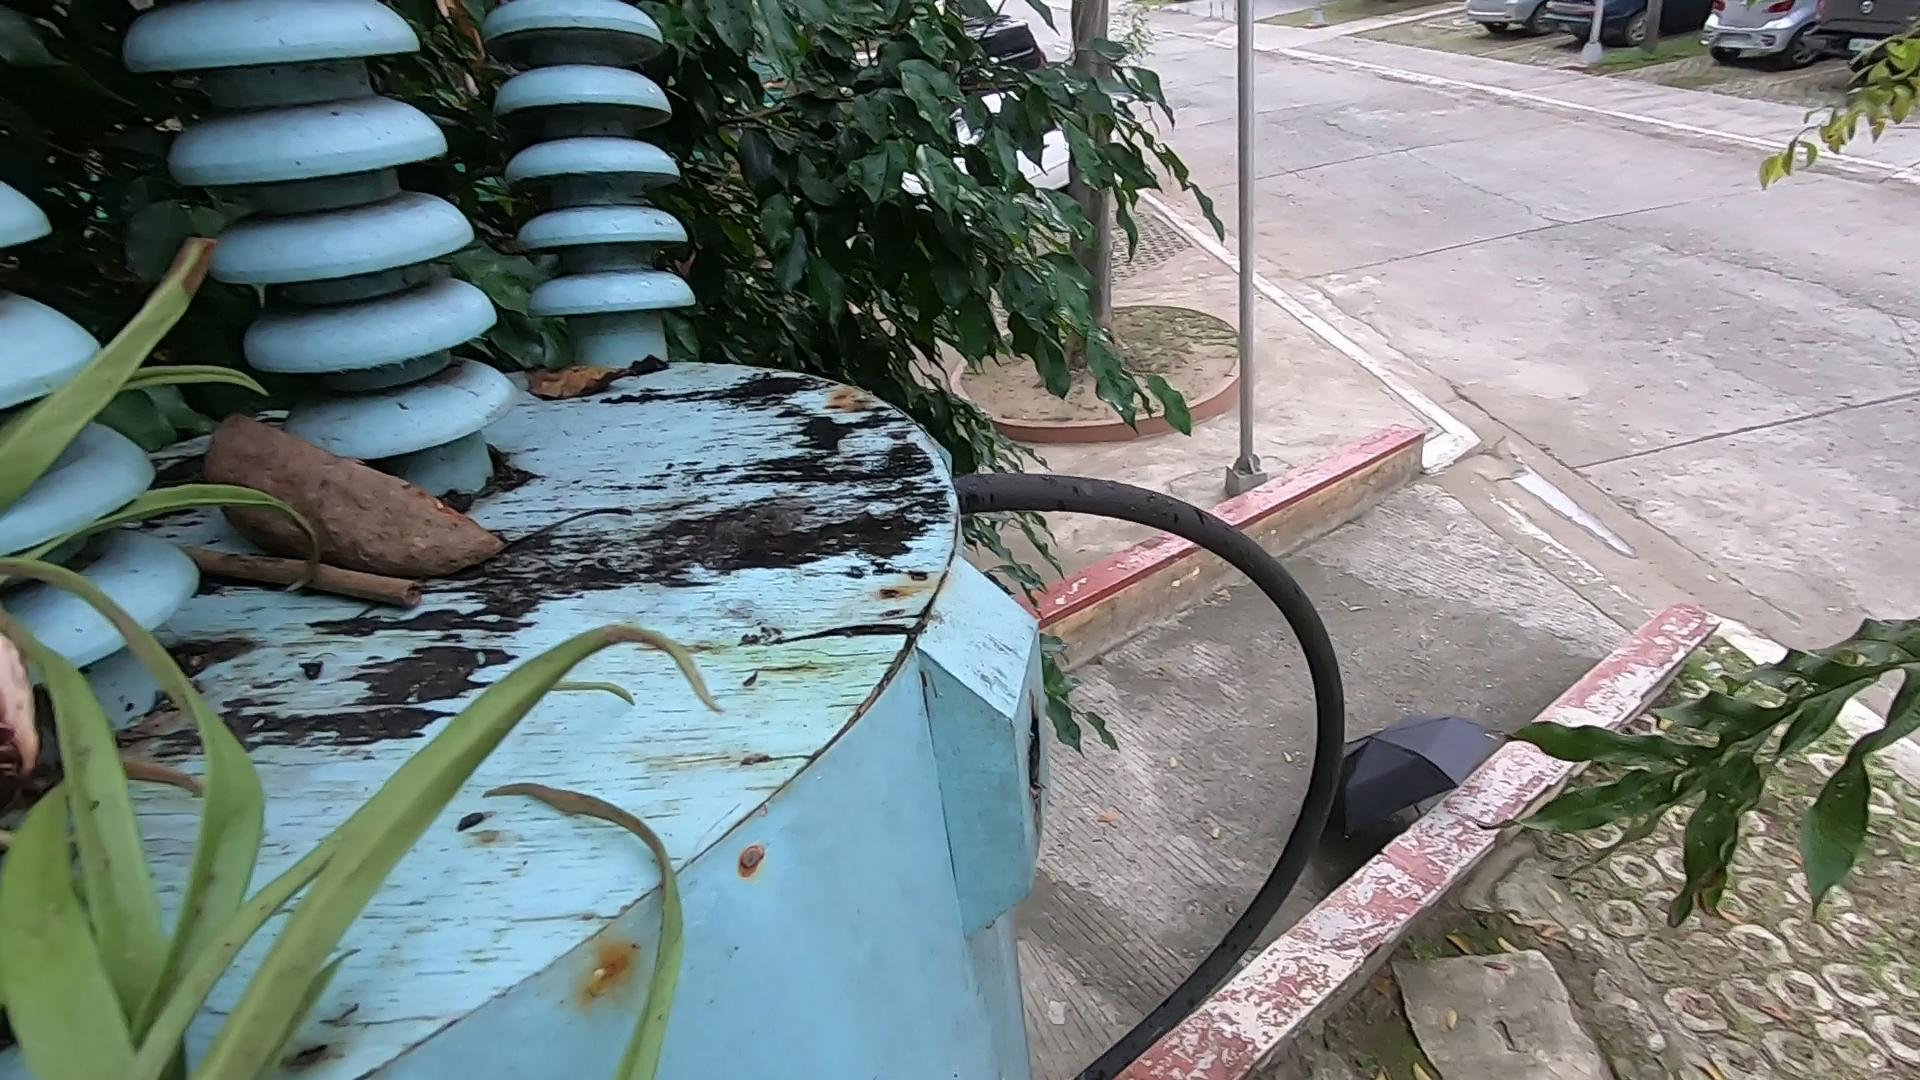leaf: (12, 244, 666, 1080), (516, 348, 691, 411)
mahogany fruit: (229, 405, 579, 605)
tree branch: (156, 542, 469, 640)
